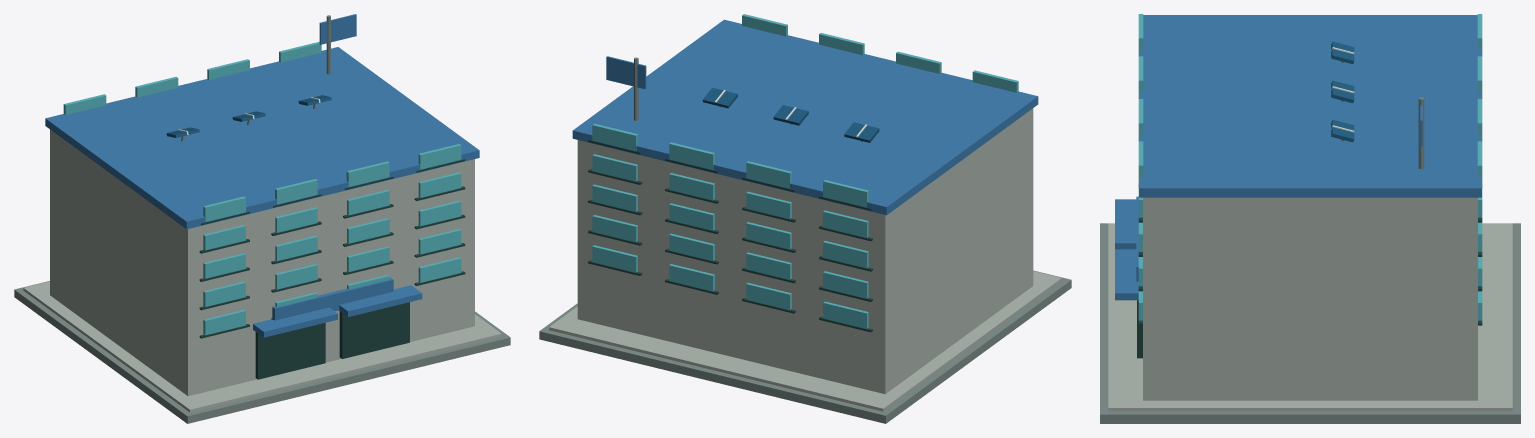
The model's file is police_lv3.glb.
3 renders of one model, left to right at view 1: azimuth 30°, elevation 25°; view 2: azimuth 150°, elevation 25°; view 3: azimuth 270°, elevation 25°, orthographic. The views are drawn at different scales.
Visible parts, largest first — view 1: concrete, blue, glass, dark, pavement, solar; view 2: concrete, blue, glass, pavement, dark, solar; view 3: concrete, blue, pavement, glass, solar, dark, steel.
Part boxes in pixels (box(x1,y1,x2,y2)): concrete: box(23, 129, 501, 412); blue: box(45, 14, 479, 337); glass: box(63, 41, 461, 335); dark: box(199, 159, 465, 379); pavement: box(14, 281, 510, 423); solar: box(166, 95, 331, 137); concrete: box(549, 108, 1061, 411); blue: box(572, 19, 1038, 215); glass: box(592, 14, 1018, 328); pavement: box(539, 270, 1071, 423); dark: box(588, 140, 872, 332); solar: box(702, 87, 879, 142); concrete: box(1108, 197, 1512, 411); blue: box(1115, 15, 1481, 300); pavement: box(1100, 223, 1520, 423); glass: box(1138, 14, 1482, 320); solar: box(1331, 41, 1354, 142); dark: box(1137, 98, 1482, 358); steel: box(1341, 61, 1424, 168).
Size of the model in its own units: 9.8 by 7.07 by 9.1.
